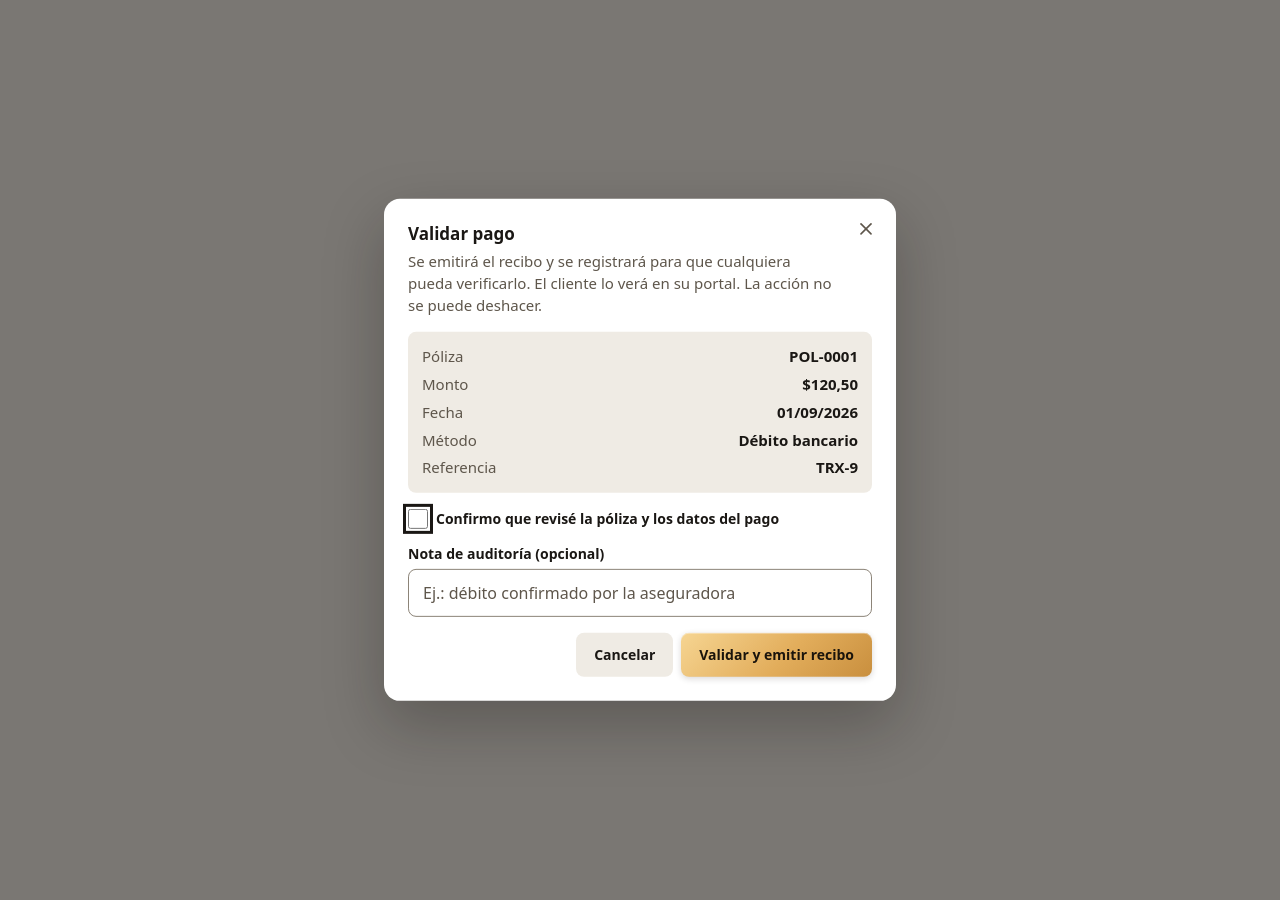
Test: ValidarPagoDialog (HU-18, D10) › no confirma al enviar sin marcar la casilla
Click the button with test id "confirmar-validar": coordinates (777, 655) [681,633,872,677]
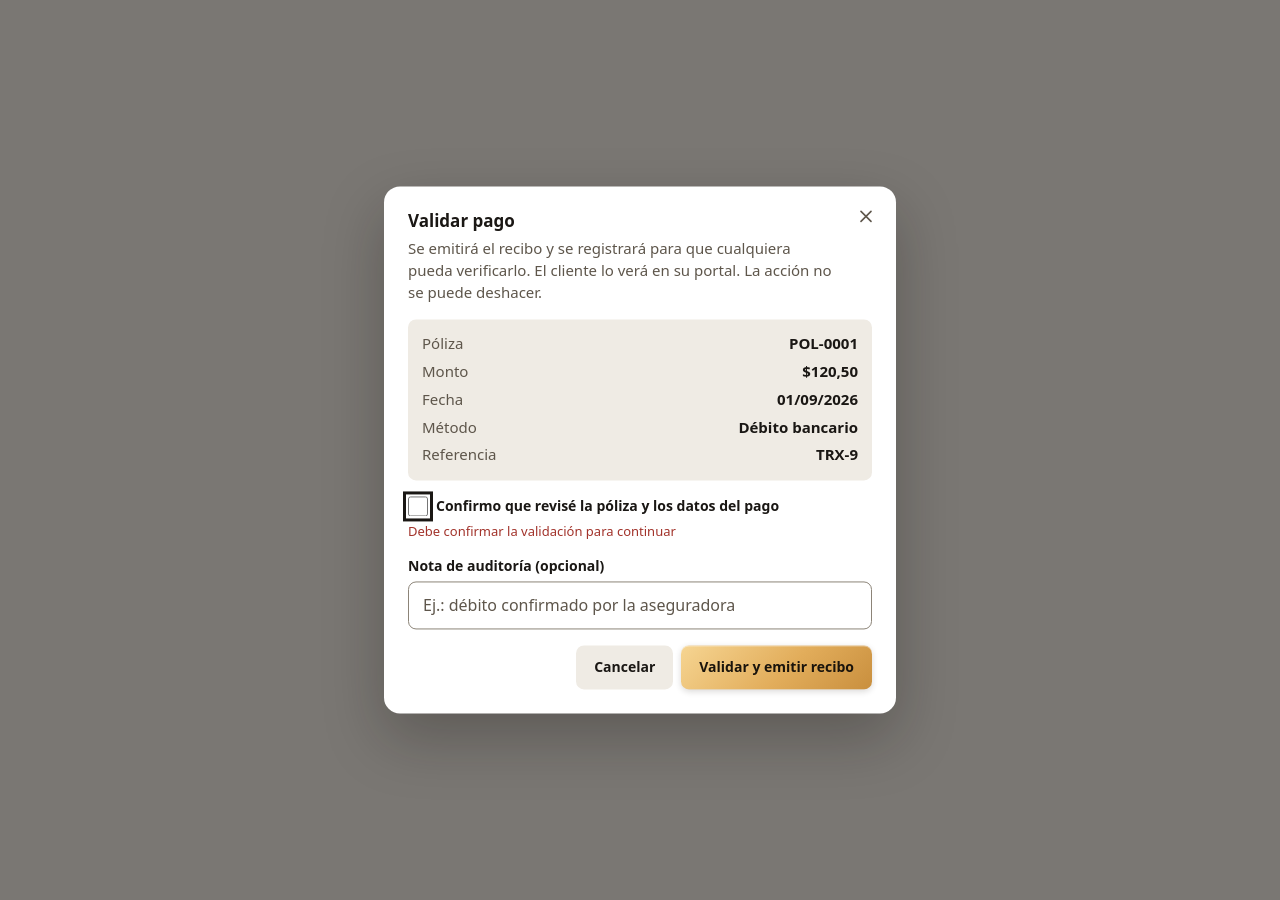
expect the text "Debe confirmar la validación para continuar" is shown: met, box [408,522,676,540]
